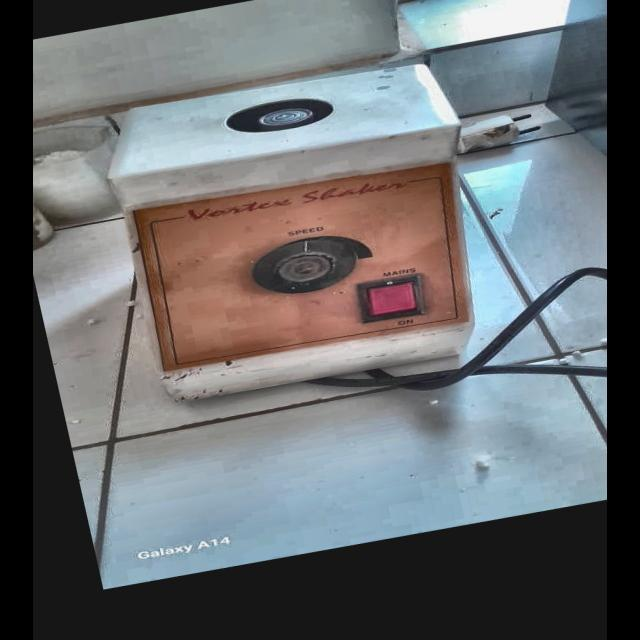Vortex: (95, 48, 518, 426)
